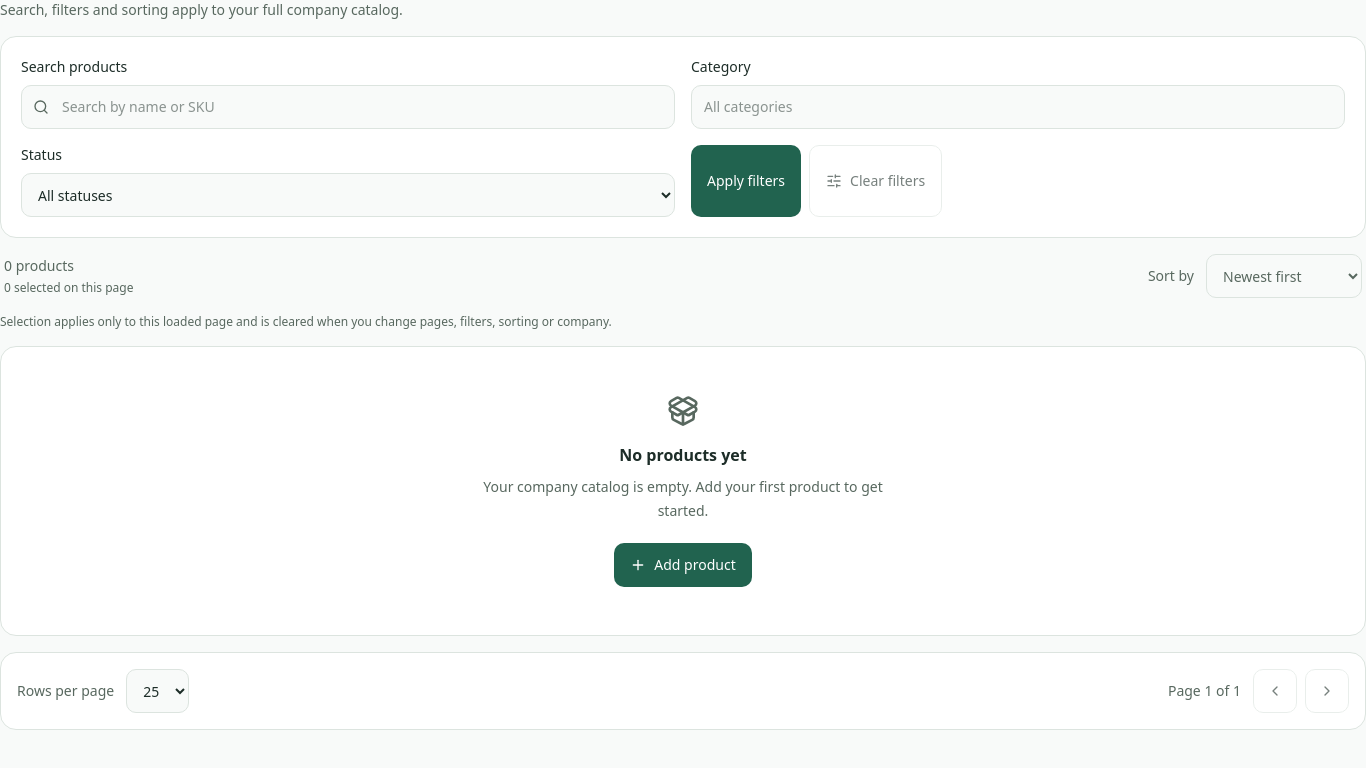
server-driven ProductsTable › shows a true empty catalog with a writer CTA
Expected: the heading "No products yet" is shown, [619,443,747,467]
Step 1. Click the button "Add product" → (683,565), box [614,543,752,587]
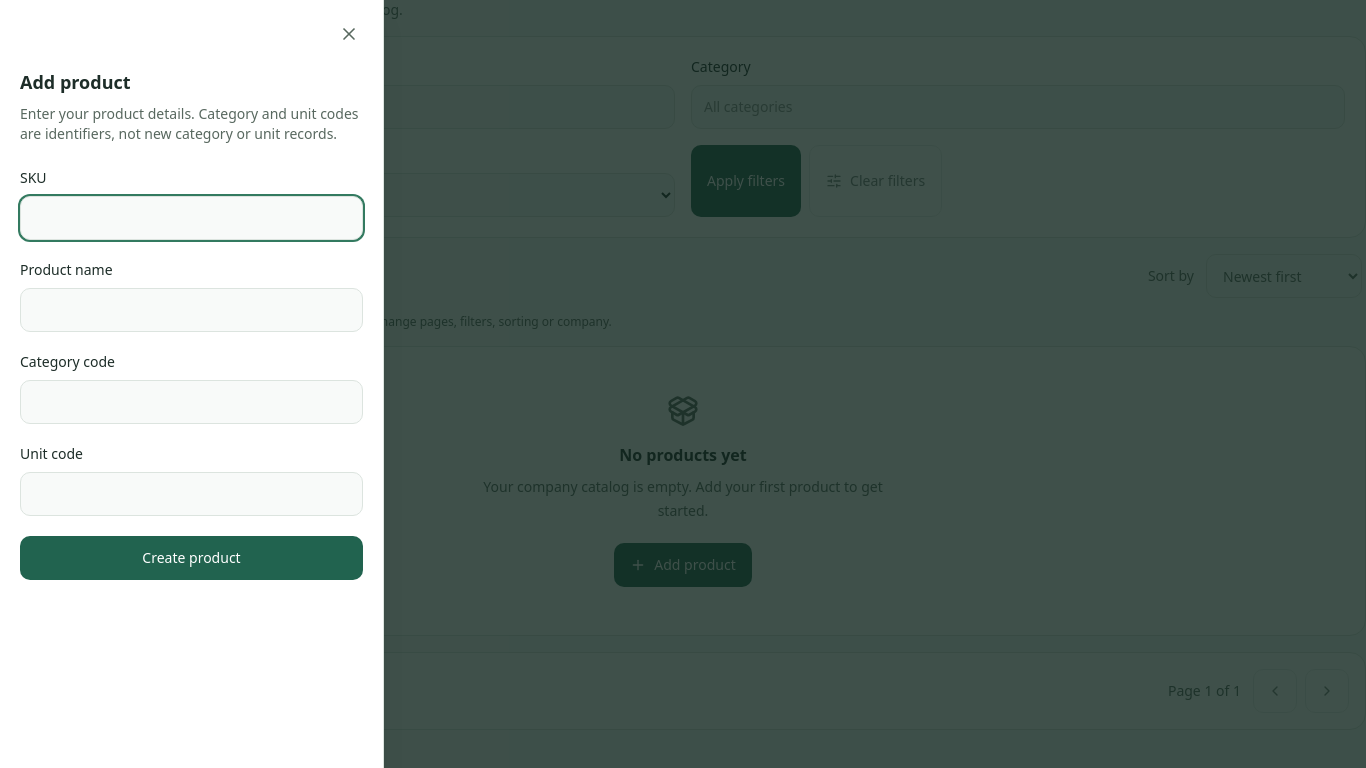
Expected: the dialog "Add product" is shown, [0,0,384,767]
